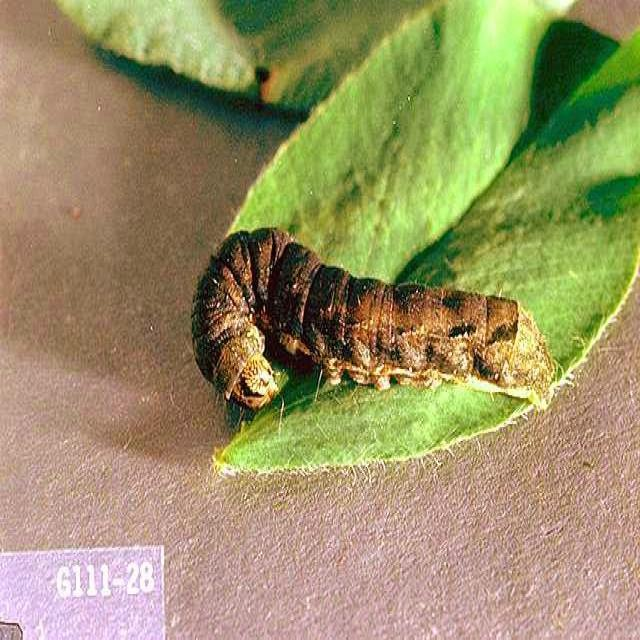army worm: (192, 220, 560, 431)
